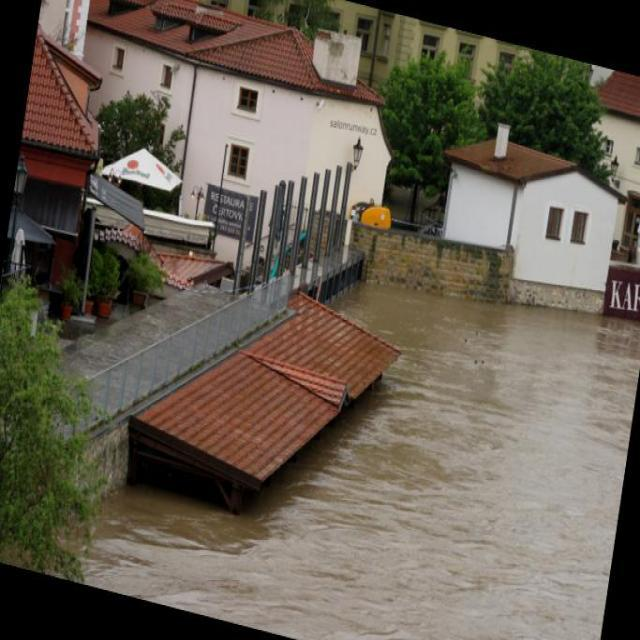flood: (68, 205, 639, 639)
